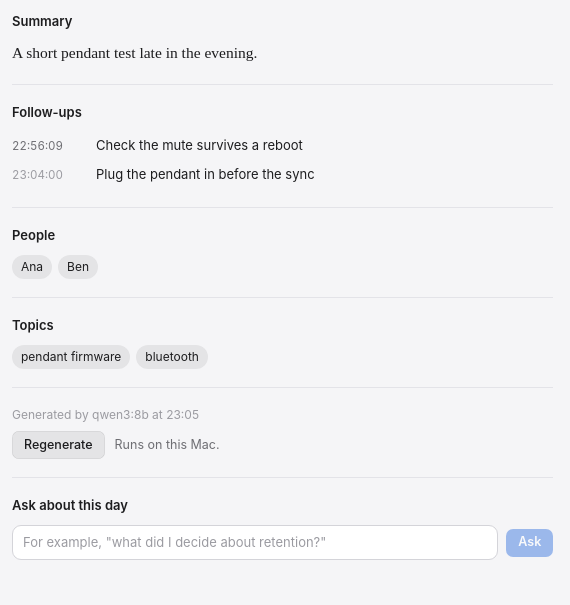
Scenario: a question whose job was lost to an app restart says so
Type "what happened?" into the field labelled "Ask about this day" at {"x": 255, "y": 542}, box [12,525,498,560]
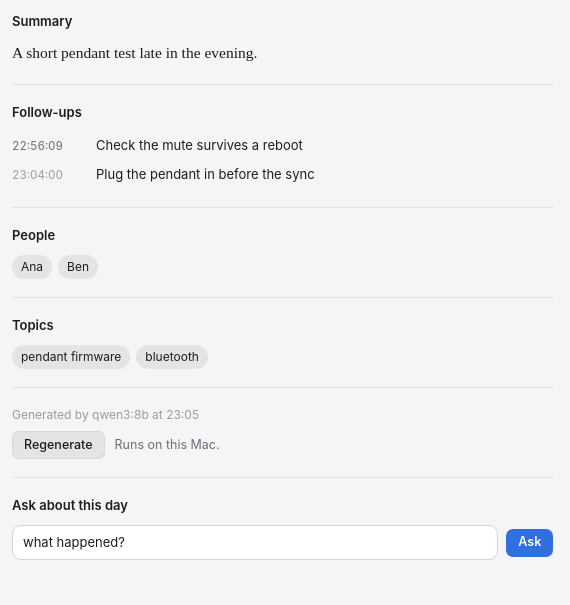
Submit the form, box [12,496,553,560]
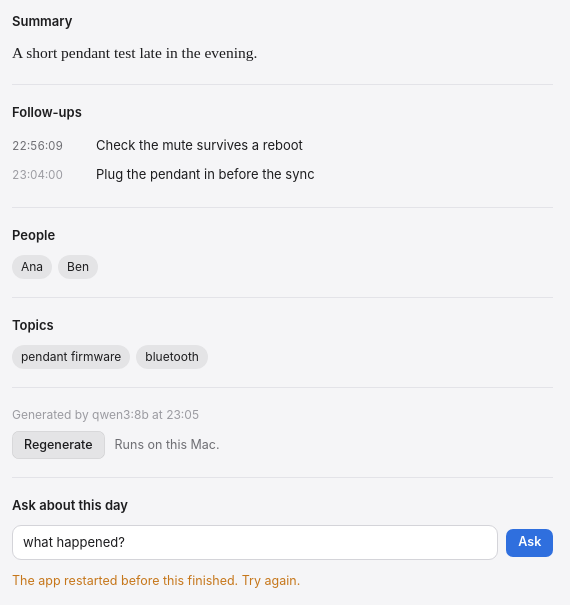
Now the message reads "The app restarted before this finished. Try again.", box [12,573,300,588]
